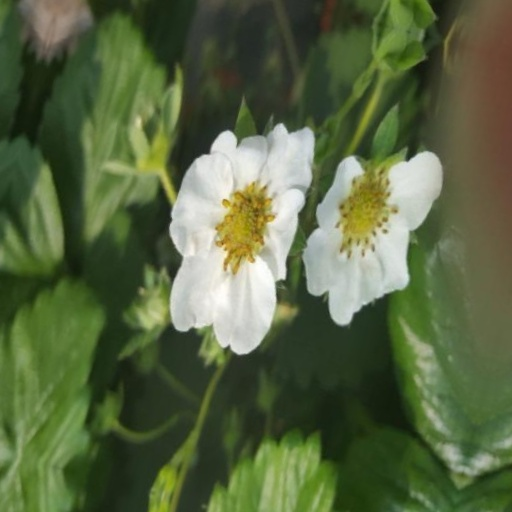Blossom Blight: (128, 274, 192, 376), (242, 229, 306, 329)
